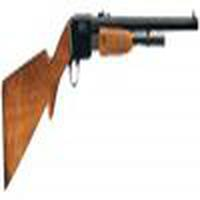gun: (1, 12, 195, 158)
